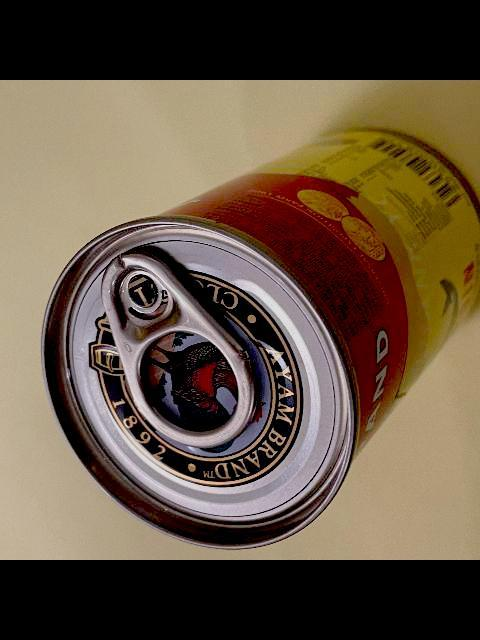foodcan: (36, 125, 480, 551)
